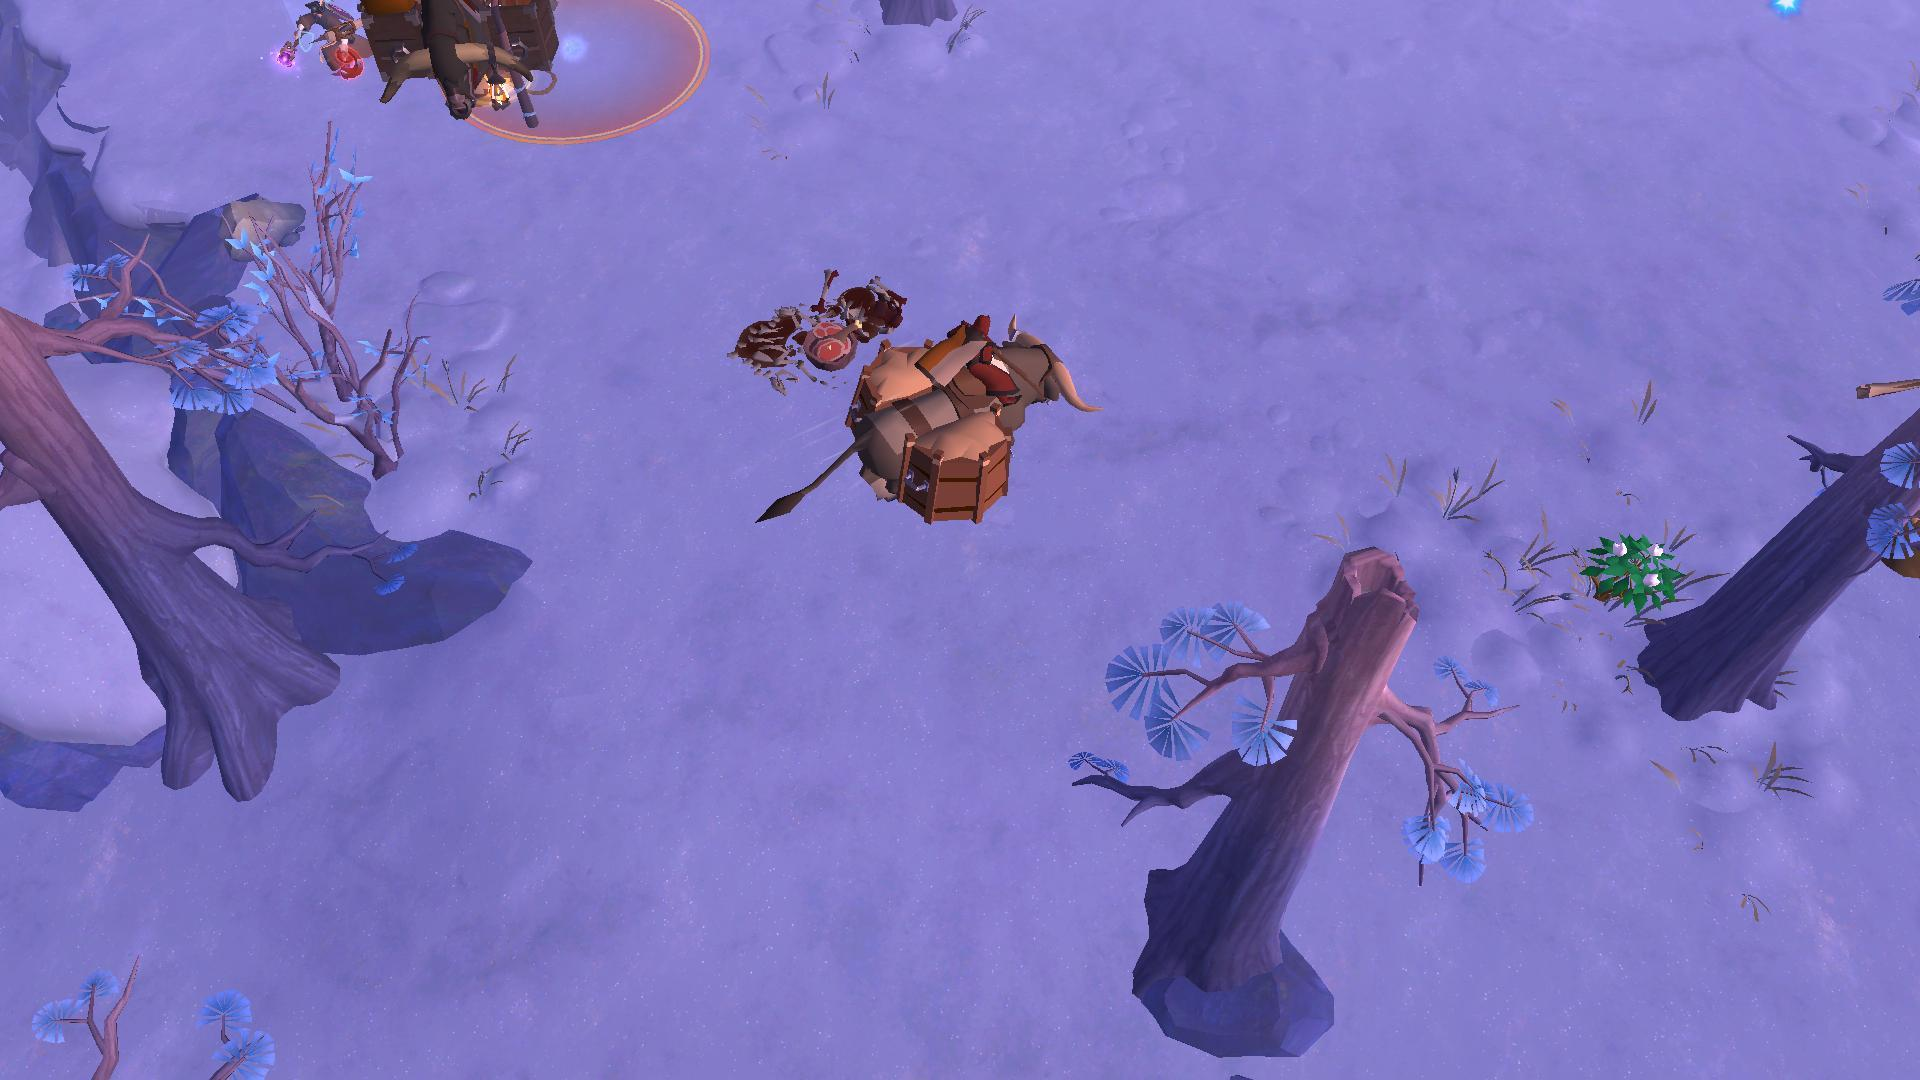fiber_t3: (1578, 526, 1681, 620)
